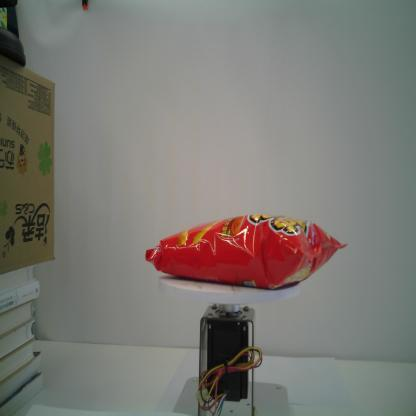Puffed Food: (144, 212, 349, 291)
